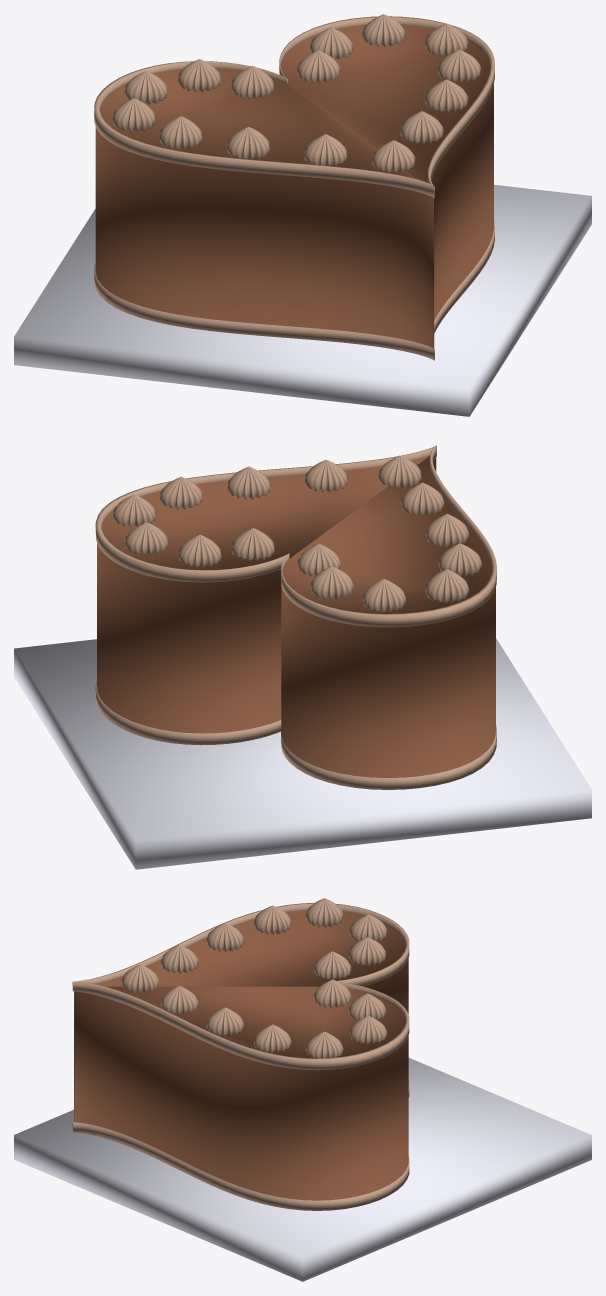
The model's file is heart_chocolate_style1.glb.
3 views of the same model, one above another, from view 1: azimuth 30°, elevation 25°; view 2: azimuth 150°, elevation 25°; view 3: azimuth 270°, elevation 25° (orthographic). The views are drawn at different scales.
Visible parts, largest first — view 1: HeartCake, IcingStand, IcingRing, IcingRing.001, design12, design9, design11, design8, design13, design5, design2, design15 (+7 smaller); view 2: HeartCake, IcingStand, IcingRing, IcingRing.001, design12, design10, design11, design8, design7, design2, design1, design14 (+7 smaller); view 3: HeartCake, IcingStand, IcingRing, IcingRing.001, design12, design9, design8, design11, design13, design7, design1, design5 (+7 smaller).
Boxes of the visible parts, box(x1,y1,x2,y2) form: HeartCake: box(95, 24, 493, 348); IcingStand: box(14, 184, 591, 416); IcingRing: box(94, 16, 494, 197); IcingRing.001: box(94, 220, 494, 360); design12: box(112, 98, 155, 132); design9: box(159, 116, 202, 150); design11: box(178, 59, 220, 92); design8: box(227, 126, 269, 159); design13: box(231, 66, 273, 99); design5: box(425, 79, 468, 112); design2: box(372, 140, 415, 173); design15: box(362, 14, 405, 47); HeartCake: box(97, 455, 495, 777); IcingStand: box(14, 638, 591, 869); IcingRing: box(95, 445, 496, 627); IcingRing.001: box(95, 681, 496, 789); design12: box(425, 569, 468, 603); design10: box(362, 579, 405, 612); design11: box(310, 566, 353, 599); design8: box(425, 514, 468, 547); design7: box(401, 482, 444, 515); design2: box(378, 455, 421, 488); design1: box(231, 528, 274, 560); design14: box(178, 534, 221, 567); HeartCake: box(74, 910, 408, 1200); IcingStand: box(14, 1058, 591, 1281); IcingRing: box(72, 903, 409, 1070); IcingRing.001: box(72, 1079, 409, 1210); design12: box(305, 898, 343, 927); design9: box(254, 905, 291, 934); design8: box(206, 923, 243, 951); design11: box(348, 937, 386, 965); design13: box(313, 951, 351, 979); design7: box(161, 945, 198, 973); design1: box(313, 979, 351, 1007); design5: box(206, 1007, 243, 1035).
Bounding box in the file's own units: 4.24 × 1.58 × 4.24.
